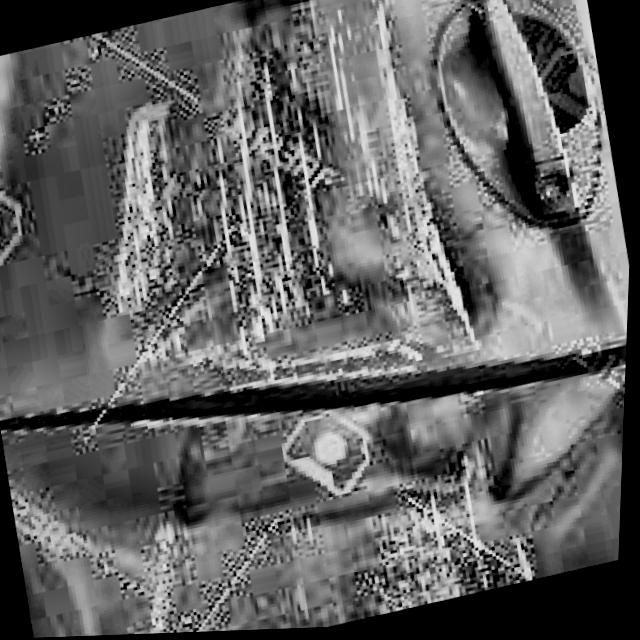door_dent: (6, 354, 626, 625)
door_scratch: (161, 0, 520, 415), (51, 104, 199, 334)
